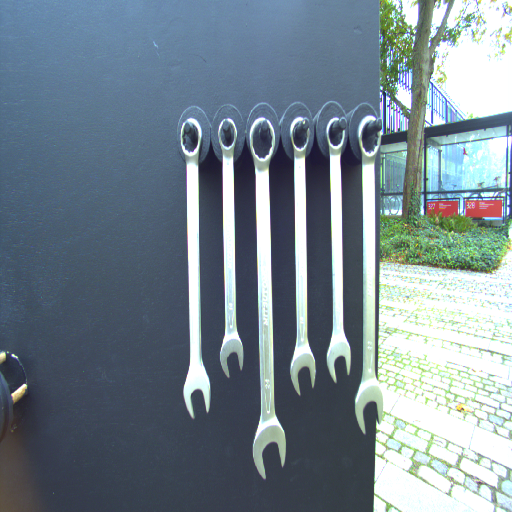bottom: (251, 419, 288, 480), (182, 367, 216, 421), (353, 380, 384, 436), (288, 346, 318, 395), (324, 337, 352, 385), (217, 333, 246, 377)
top: (247, 116, 278, 168), (356, 115, 383, 161), (178, 116, 204, 163), (287, 116, 311, 156), (216, 116, 238, 156), (325, 117, 347, 156)
